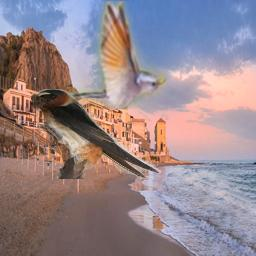Cuckoo: (59, 1, 166, 109)
Swallow: (31, 89, 161, 179)
